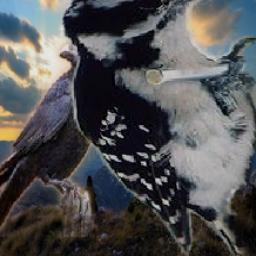Crow: (0, 37, 103, 238)
Woodpecker: (62, 0, 256, 256)
